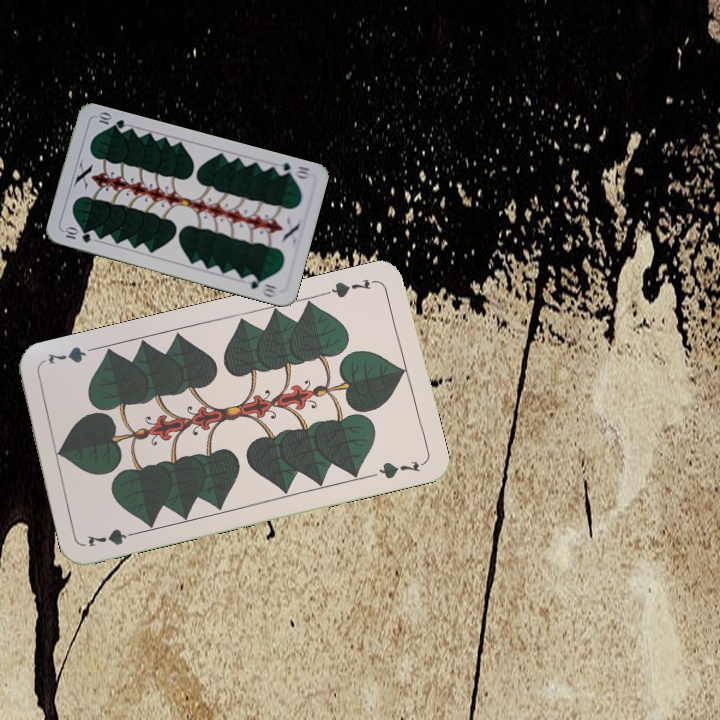G10: (272, 158, 313, 182), (61, 224, 94, 245)
G7: (322, 274, 380, 301), (83, 525, 142, 550)
